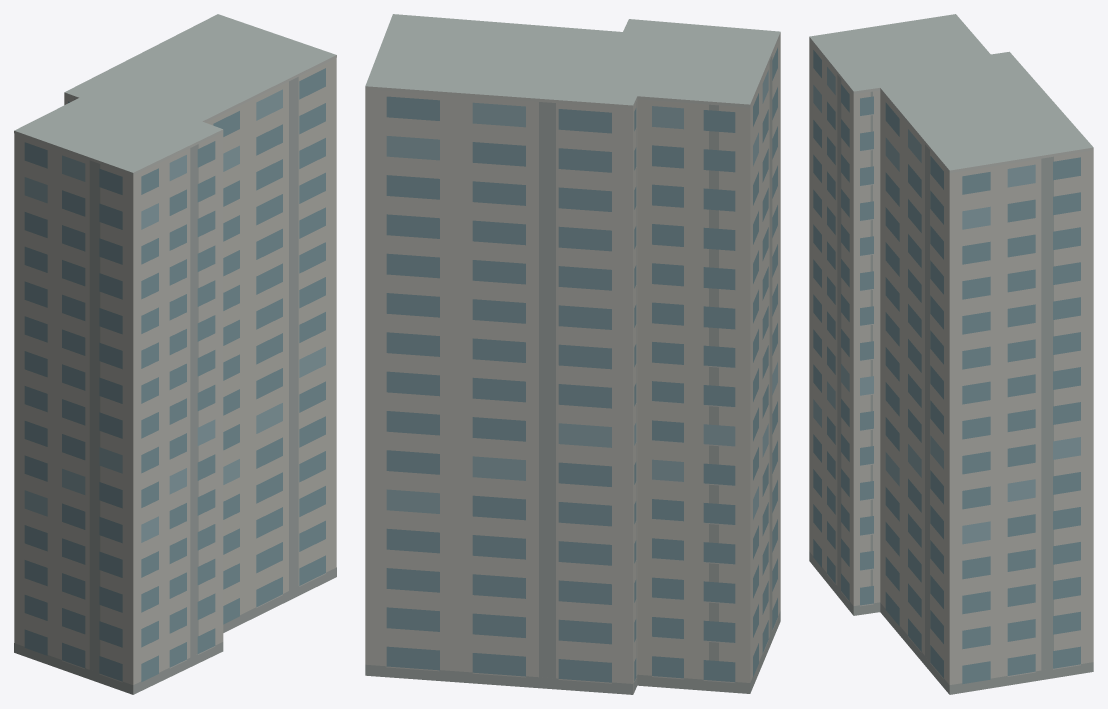
File: survey-upis-32640578.glb
3 views of the same model, side by side, from view 1: azimuth 30°, elevation 25°; view 2: azimuth 150°, elevation 25°; view 3: azimuth 270°, elevation 25° (orthographic). The views are drawn at different scales.
Visible parts, largest first — view 1: survey-upis-32640578.tmp; view 2: survey-upis-32640578.tmp; view 3: survey-upis-32640578.tmp.
Part boxes in pixels (bbox=[...]): survey-upis-32640578.tmp: bbox=[14, 14, 336, 694]; survey-upis-32640578.tmp: bbox=[365, 14, 780, 694]; survey-upis-32640578.tmp: bbox=[809, 14, 1093, 694].
Bounding box in the file's own units: 29.31 × 45.75 × 22.5.
